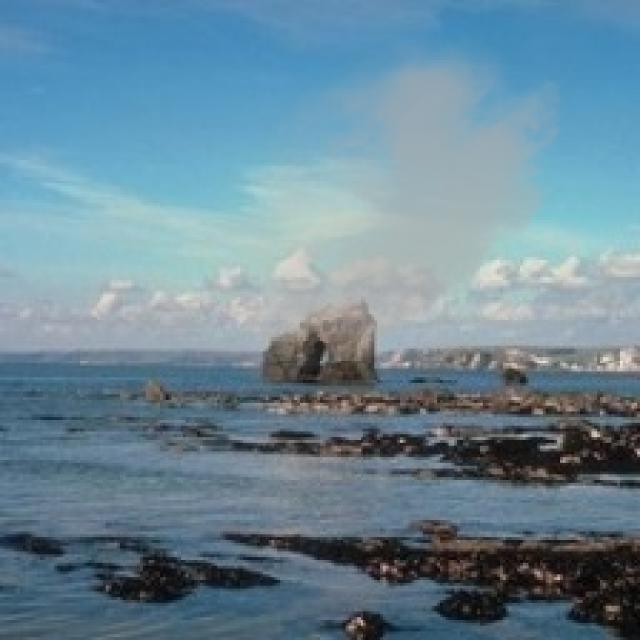smoke: (157, 20, 577, 394)
